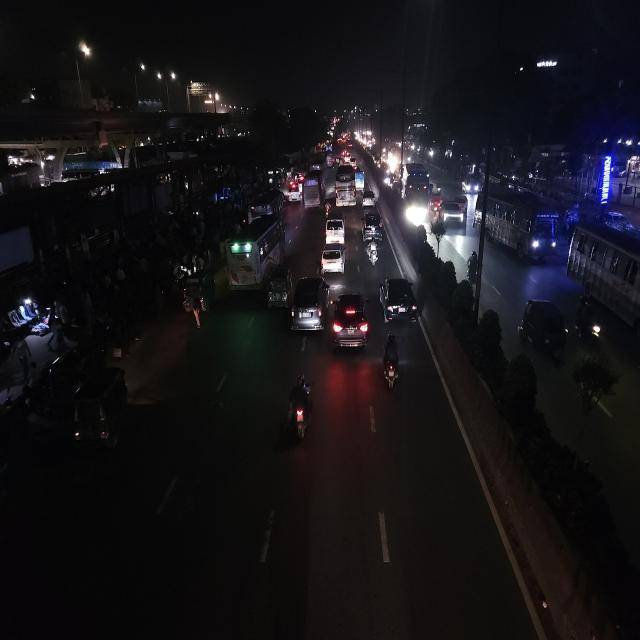bus: (568, 216, 640, 348), (479, 175, 559, 266), (225, 212, 282, 290), (332, 161, 358, 213), (302, 170, 326, 209)
car: (288, 273, 328, 340), (331, 290, 370, 354), (376, 277, 418, 331), (436, 195, 468, 236), (319, 241, 345, 277), (361, 211, 387, 243), (320, 215, 348, 243), (285, 183, 301, 205)
cng: (67, 361, 129, 458), (518, 290, 570, 368), (179, 264, 213, 318), (265, 261, 291, 306)
motorcycle: (287, 377, 319, 447), (579, 293, 607, 352), (380, 334, 402, 389), (463, 250, 485, 293), (366, 236, 379, 266)
truck: (404, 163, 430, 213)
